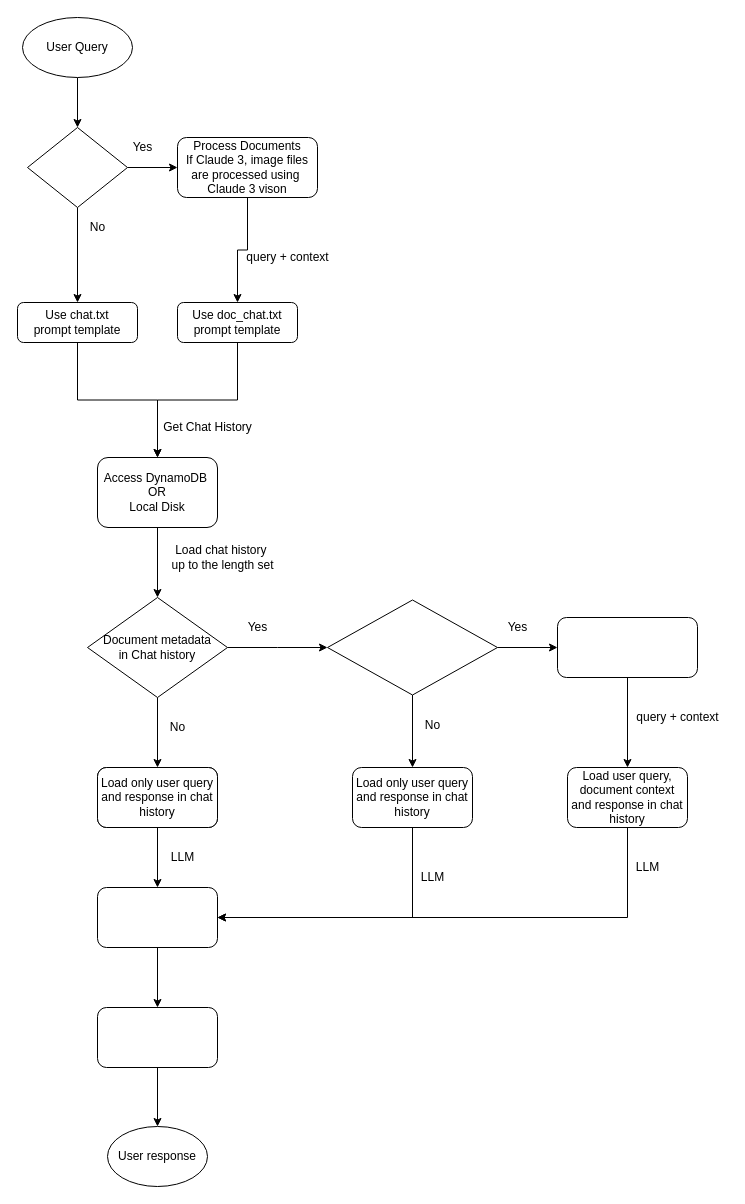
This 745x1204 diagram has some shape labels left out. The centre of each missing label's shape, as x and y in pixels:
"Document Attached" goes at point (77, 167).
"load-doc-in-chat-history" goes at point (412, 647).
"Process Documents for each chat turn with an attached document" goes at point (627, 647).
"Query + Context+ Chat History" goes at point (157, 917).
"Store response and metadata in DynamoDB or Local Disk" goes at point (157, 1037).
